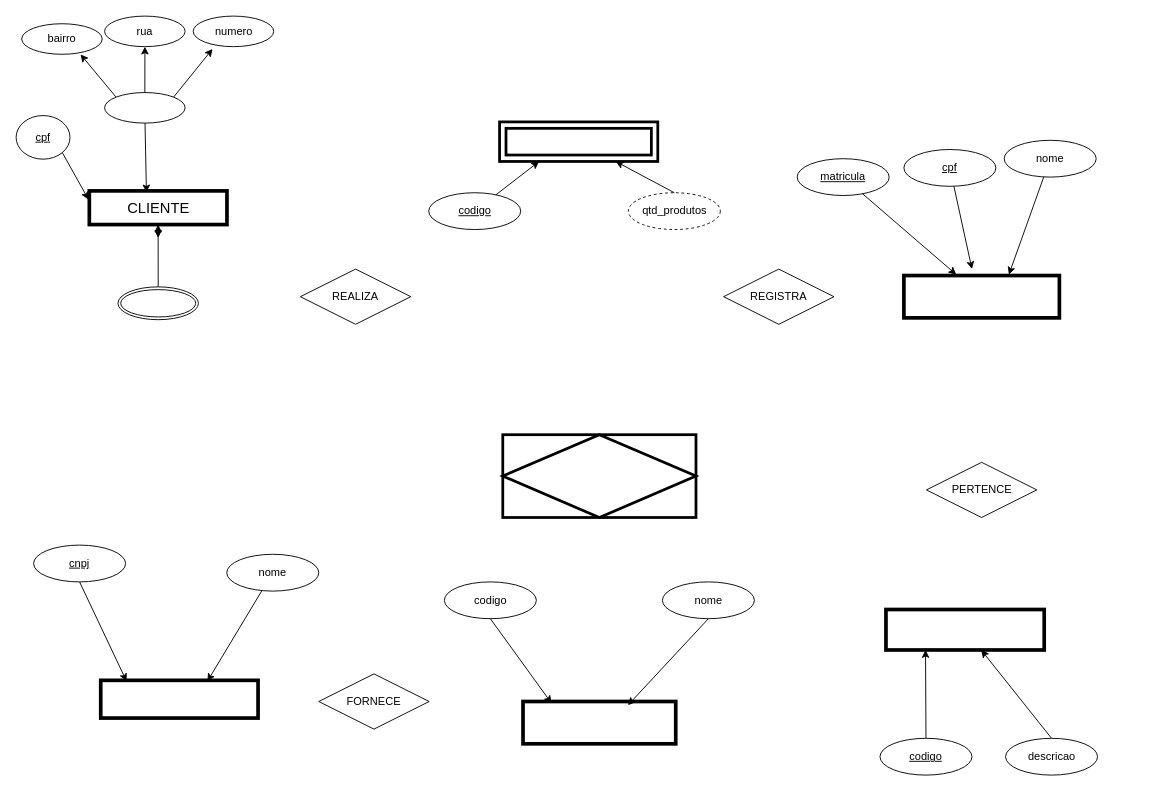
Image size: 1167x791. Some labels were removed from this diagram. Each missing label, with the centre of its shape:
"COMPRA" goes at point (578, 141).
"CONTEM produto_compra" goes at point (599, 475).
"DEPARTAMENTO" goes at point (965, 629).
"endereço" goes at point (144, 107).
"FORCECEDOR" goes at point (178, 698).
"FUNCIONARIO" goes at point (981, 296).
"PRODUTO" goes at point (599, 722).
"telefone" goes at point (157, 303).
